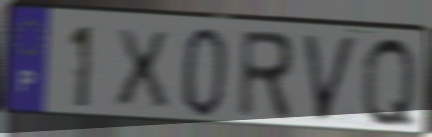0: (178, 25, 230, 121)
1: (67, 22, 95, 110)
Q: (359, 32, 420, 134)
R: (234, 28, 296, 124)
V: (299, 31, 362, 126)
X: (112, 26, 173, 110)
